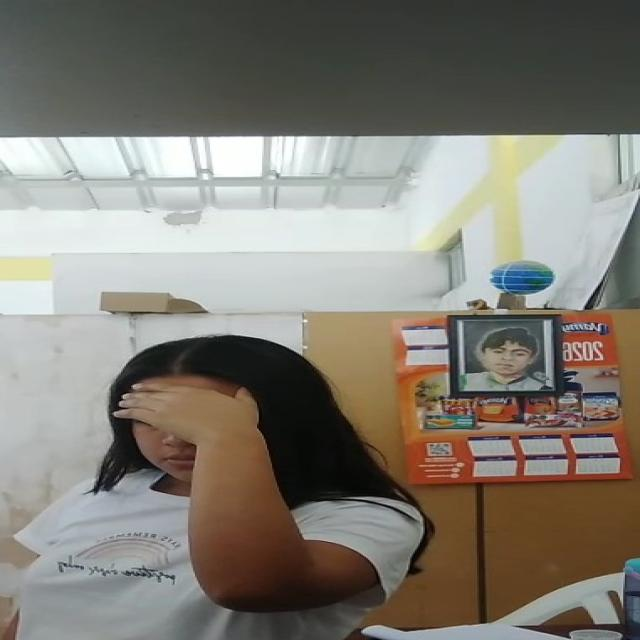7_mano_rostro: (115, 381, 263, 449)
